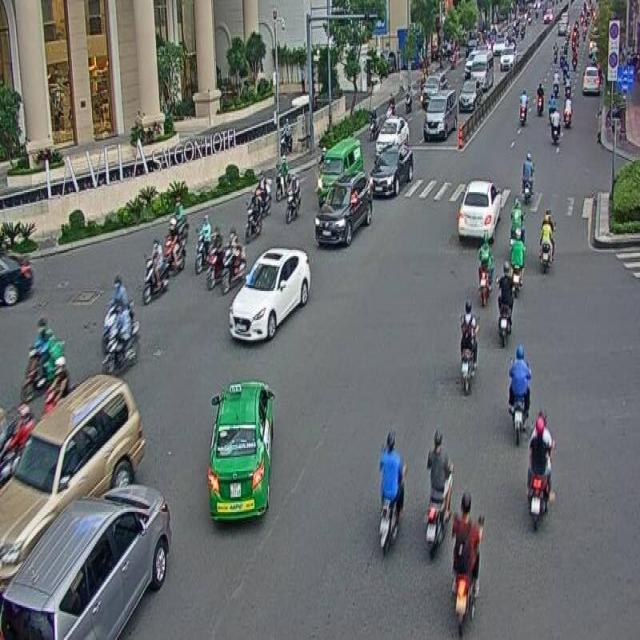car: (0, 374, 141, 584), (2, 486, 170, 640), (209, 381, 272, 517), (229, 248, 310, 342), (314, 171, 372, 247), (458, 180, 500, 241), (368, 143, 414, 197), (375, 116, 409, 152)
motorcycle: (450, 491, 484, 638), (423, 430, 453, 558), (527, 408, 556, 532), (377, 430, 405, 553), (507, 343, 532, 448), (142, 235, 170, 306), (460, 296, 479, 396), (497, 262, 514, 348), (478, 228, 493, 311), (540, 210, 554, 273)
truck: (318, 137, 362, 200)
